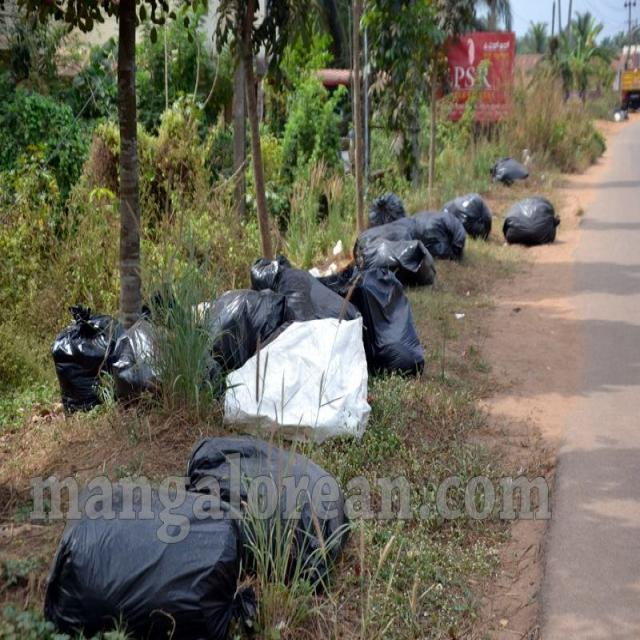garbage: (55, 300, 382, 435), (196, 406, 343, 585), (53, 531, 276, 639), (267, 250, 428, 382), (489, 120, 574, 253), (363, 186, 470, 289)
